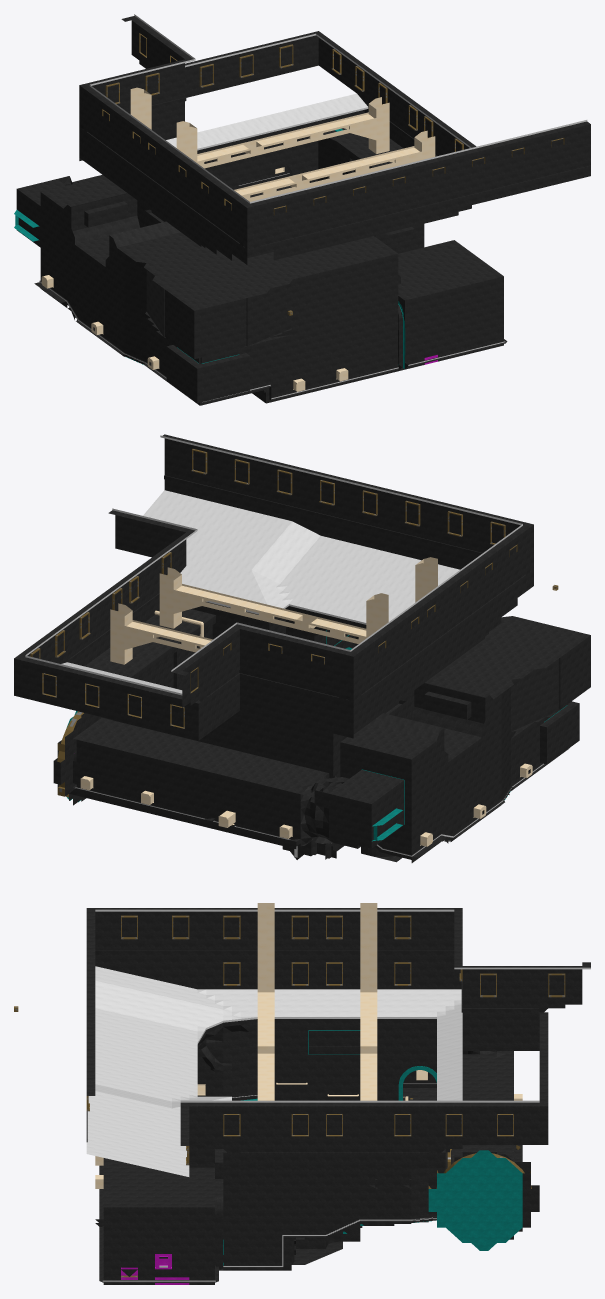
Rendered from star.obj.
3 views of the same model, one above another, from view 1: azimuth 30°, elevation 25°; view 2: azimuth 150°, elevation 25°; view 3: azimuth 270°, elevation 25° (orthographic). The views are drawn at different scales.
Parts seen in each view (by area): view 1: slot3, slot6, slot1050, slot1071, slot1091, slot1092, slot5, slot2; view 2: slot3, slot1050, slot6, slot1071, slot1091, slot1092, slot2; view 3: slot3, slot1050, slot6, slot1052, slot1071, slot1091, slot1092, slot5, slot4, slot2.
Part boxes in pixels (x1,y1,x2,y2): slot3: (16, 16, 590, 405); slot6: (41, 87, 435, 391); slot1050: (89, 14, 587, 203); slot1071: (79, 97, 590, 346); slot1091: (102, 33, 564, 215); slot1092: (103, 34, 563, 208); slot5: (39, 173, 505, 402); slot2: (14, 210, 405, 368); slot3: (14, 434, 590, 862); slot1050: (25, 435, 522, 695); slot6: (80, 557, 532, 846); slot1071: (64, 475, 560, 709); slot1091: (30, 449, 517, 728); slot1092: (31, 449, 516, 728); slot2: (326, 630, 567, 841); slot3: (86, 908, 590, 1284); slot1050: (86, 909, 590, 1176); slot6: (95, 903, 522, 1188); slot1052: (428, 1150, 522, 1250); slot1071: (86, 950, 547, 1237); slot1091: (86, 915, 565, 1165); slot1092: (88, 915, 564, 1163); slot5: (102, 1083, 436, 1281); slot4: (121, 1254, 189, 1284); slot2: (223, 1030, 436, 1265).
Size of the model in its own units: 488 by 288 by 540.
